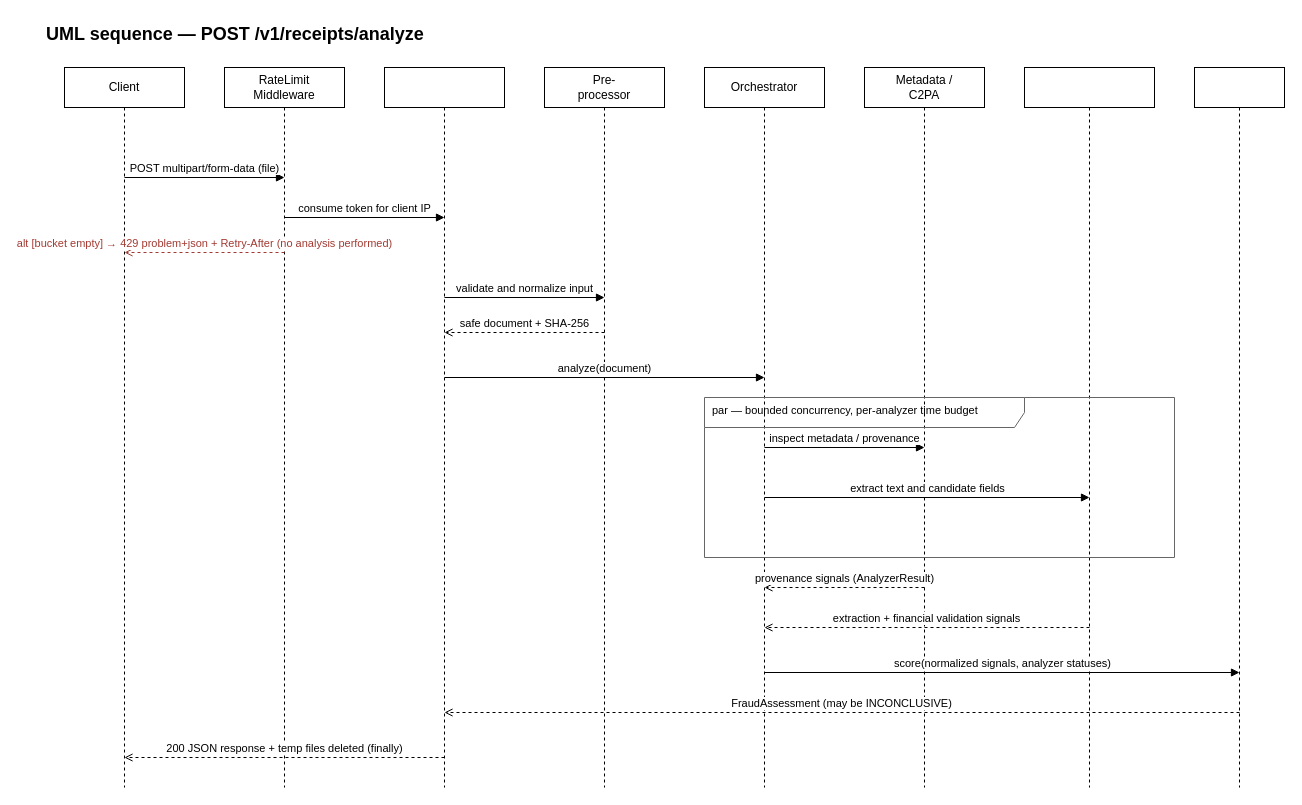
The diagram is 1302 pixels wide and 805 high, and some of its shapes have lost their labels. Here are the shapes that lost their labels. From the top down, the box of each, then its label:
(384, 66, 504, 788): FastAPI router
(1024, 66, 1154, 788): OCR + financial validators
(1194, 66, 1284, 788): Risk engine
